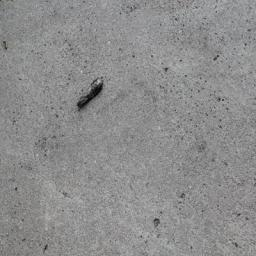FOD: (74, 77, 110, 113)
